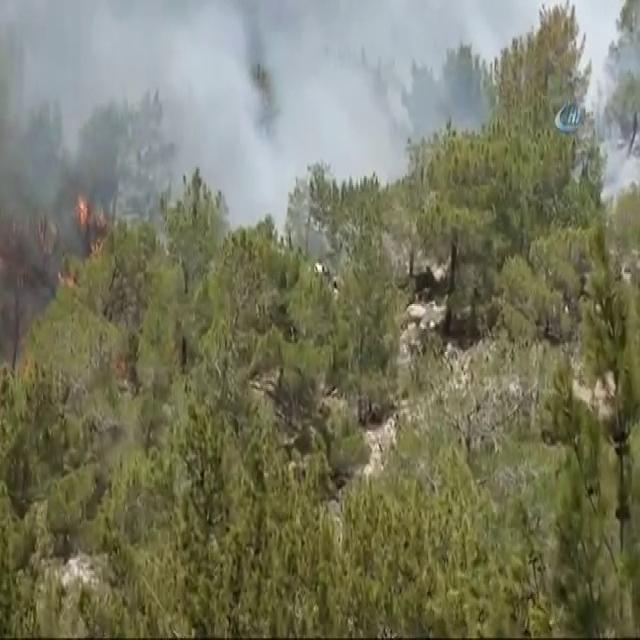Fire: (70, 183, 98, 247), (55, 262, 79, 294)
Smoke: (155, 3, 419, 235)
